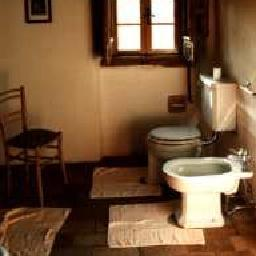Sanitario: (145, 77, 233, 155), (160, 155, 241, 227)
